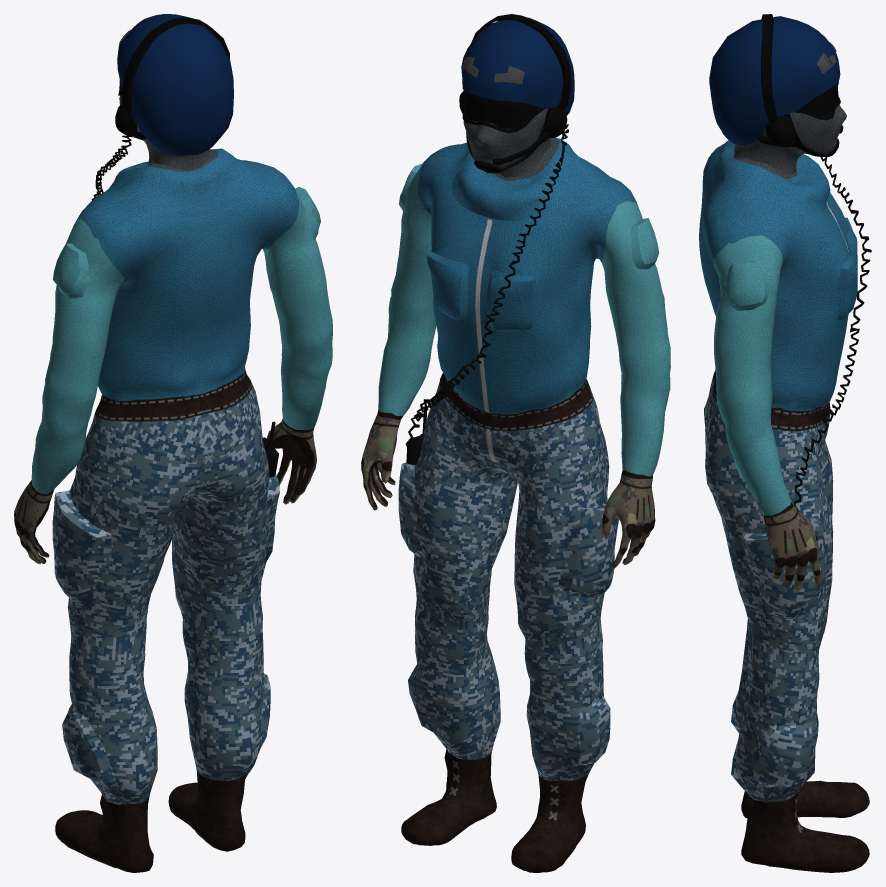
Rendered from crew_blue.obj.
3 renders of one model, left to right at view 1: azimuth 30°, elevation 25°; view 2: azimuth 150°, elevation 25°; view 3: azimuth 270°, elevation 25°, orthographic. The views are drawn at different scales.
Parts seen in each view (by area): view 1: del/carrier_crew.fbx/RootNode/Man.002/Man.002_soldier_blue_0, odel/carrier_crew.fbx/RootNode/Man.003/Man.003_helmet_blue_0, l/carrier_crew.fbx/RootNode/coms.001/coms.001_Material.009_0; view 2: del/carrier_crew.fbx/RootNode/Man.002/Man.002_soldier_blue_0, odel/carrier_crew.fbx/RootNode/Man.003/Man.003_helmet_blue_0, l/carrier_crew.fbx/RootNode/coms.001/coms.001_Material.009_0, ode/coms_spiral_cord.001/coms_spiral_cord.001_Material.004_0, carrier_crew.fbx/RootNode/visor.001/visor.001_glass_visors_0, carrier_crew.fbx/RootNode/visor.001/visor.001_Material.004_0, del/carrier_crew.fbx/RootNode/Man.003/Man.003_helmet_white_0; view 3: del/carrier_crew.fbx/RootNode/Man.002/Man.002_soldier_blue_0, odel/carrier_crew.fbx/RootNode/Man.003/Man.003_helmet_blue_0, l/carrier_crew.fbx/RootNode/coms.001/coms.001_Material.009_0, ode/coms_spiral_cord.001/coms_spiral_cord.001_Material.004_0, carrier_crew.fbx/RootNode/visor.001/visor.001_Material.004_0.
Part boxes in pixels (x1,y1,x2,y2): del/carrier_crew.fbx/RootNode/Man.002/Man.002_soldier_blue_0: [14, 95, 332, 872]; odel/carrier_crew.fbx/RootNode/Man.003/Man.003_helmet_blue_0: [117, 14, 233, 155]; l/carrier_crew.fbx/RootNode/coms.001/coms.001_Material.009_0: [115, 17, 229, 139]; del/carrier_crew.fbx/RootNode/Man.002/Man.002_soldier_blue_0: [361, 108, 670, 872]; odel/carrier_crew.fbx/RootNode/Man.003/Man.003_helmet_blue_0: [461, 17, 574, 115]; l/carrier_crew.fbx/RootNode/coms.001/coms.001_Material.009_0: [459, 14, 571, 173]; ode/coms_spiral_cord.001/coms_spiral_cord.001_Material.004_0: [405, 107, 568, 452]; carrier_crew.fbx/RootNode/visor.001/visor.001_glass_visors_0: [464, 96, 524, 129]; carrier_crew.fbx/RootNode/visor.001/visor.001_Material.004_0: [462, 91, 544, 133]; del/carrier_crew.fbx/RootNode/Man.003/Man.003_helmet_white_0: [462, 56, 524, 84]; del/carrier_crew.fbx/RootNode/Man.002/Man.002_soldier_blue_0: [699, 105, 869, 872]; odel/carrier_crew.fbx/RootNode/Man.003/Man.003_helmet_blue_0: [709, 16, 840, 145]; l/carrier_crew.fbx/RootNode/coms.001/coms.001_Material.009_0: [758, 14, 843, 156]; ode/coms_spiral_cord.001/coms_spiral_cord.001_Material.004_0: [793, 157, 871, 511]; carrier_crew.fbx/RootNode/visor.001/visor.001_Material.004_0: [794, 81, 840, 120].
Size of the model in its own units: 0.6571 by 1.8 by 0.3434.
9 materials, 2 textured.
